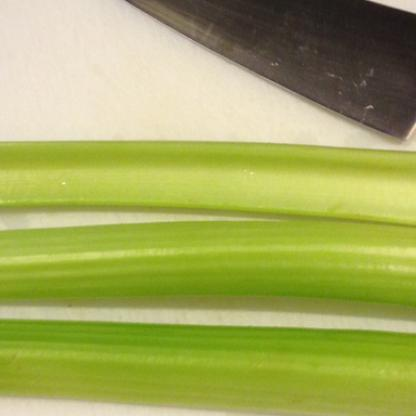knife: (49, 0, 415, 142)
